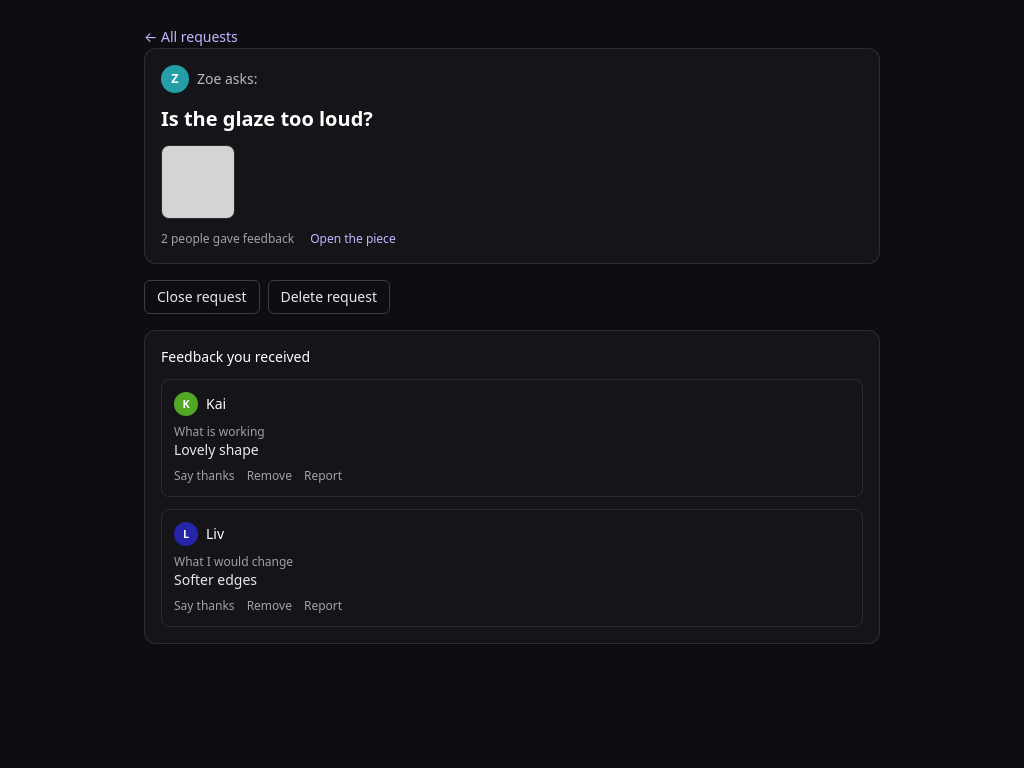
Scenario: CritiquePage: the maker › says thanks, takes a note away after asking, and reports one
Click the button with aria-label "Say thanks to Kai" at [204, 476], box [174, 468, 235, 484]
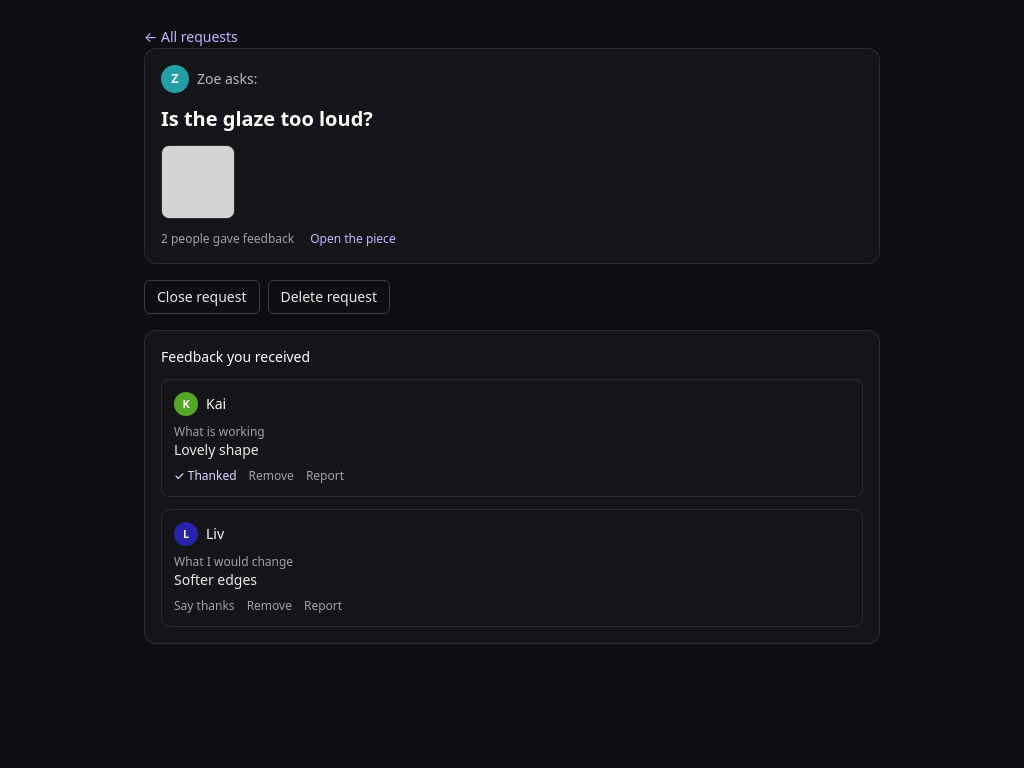
Result: the text "✓ Thanked" is shown at [174, 468, 236, 484]
Click the button with aria-label "Report this feedback from Liv" at [323, 606], box [304, 598, 342, 614]
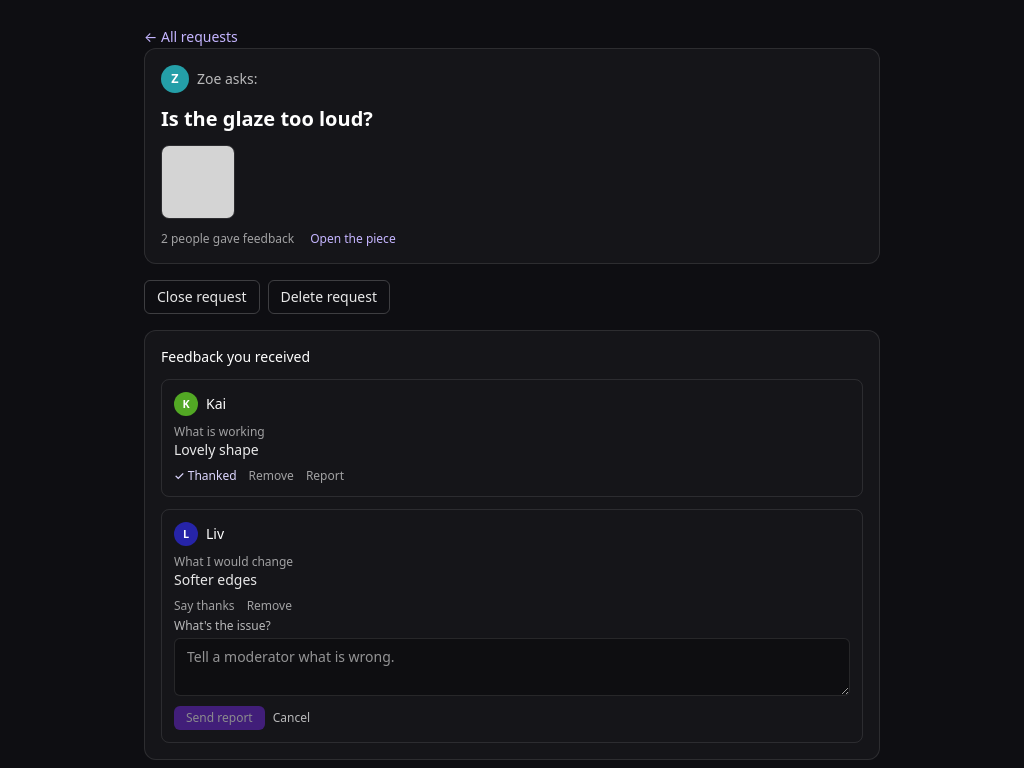
Type "Abusive" into the text box labelled "What's the issue?" at [512, 667], box [174, 638, 850, 696]
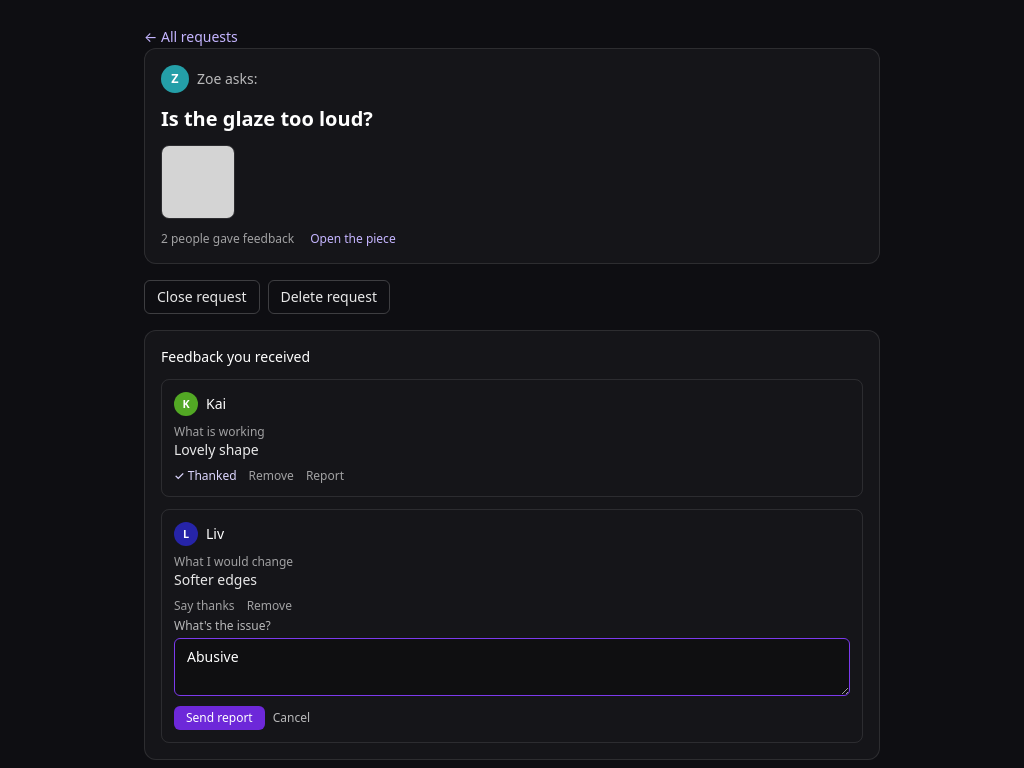
Click the button "Send report" at [219, 718], box [174, 706, 265, 730]
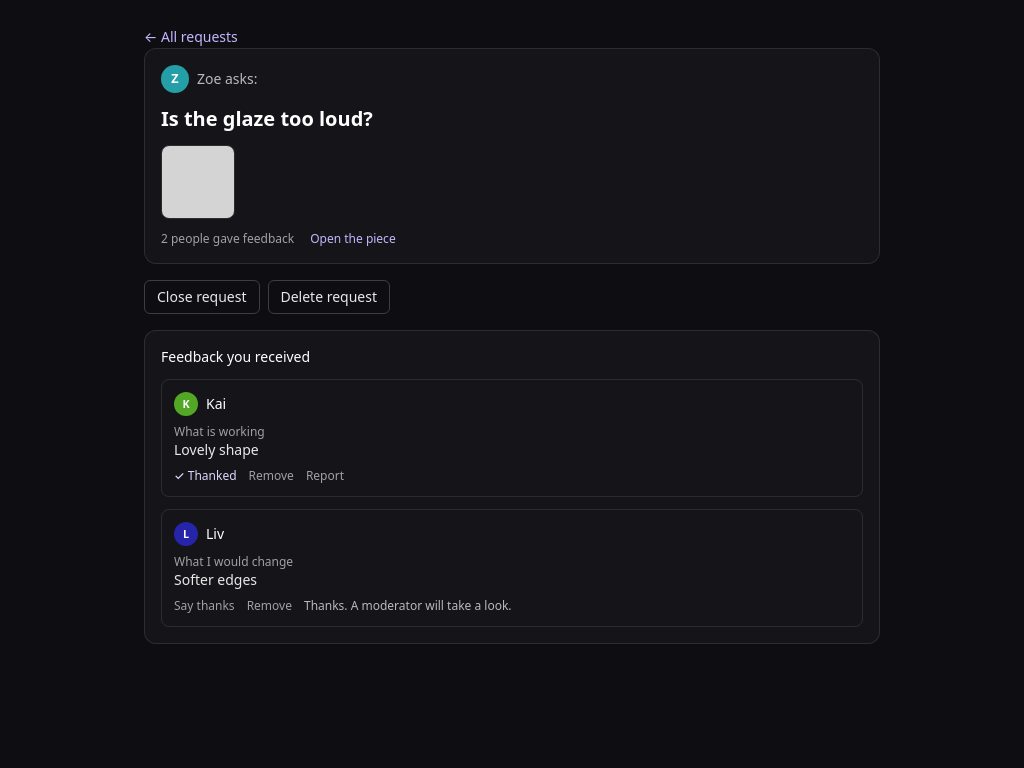
Click the button with aria-label "Remove feedback from Kai" at [271, 476], box [248, 468, 294, 484]
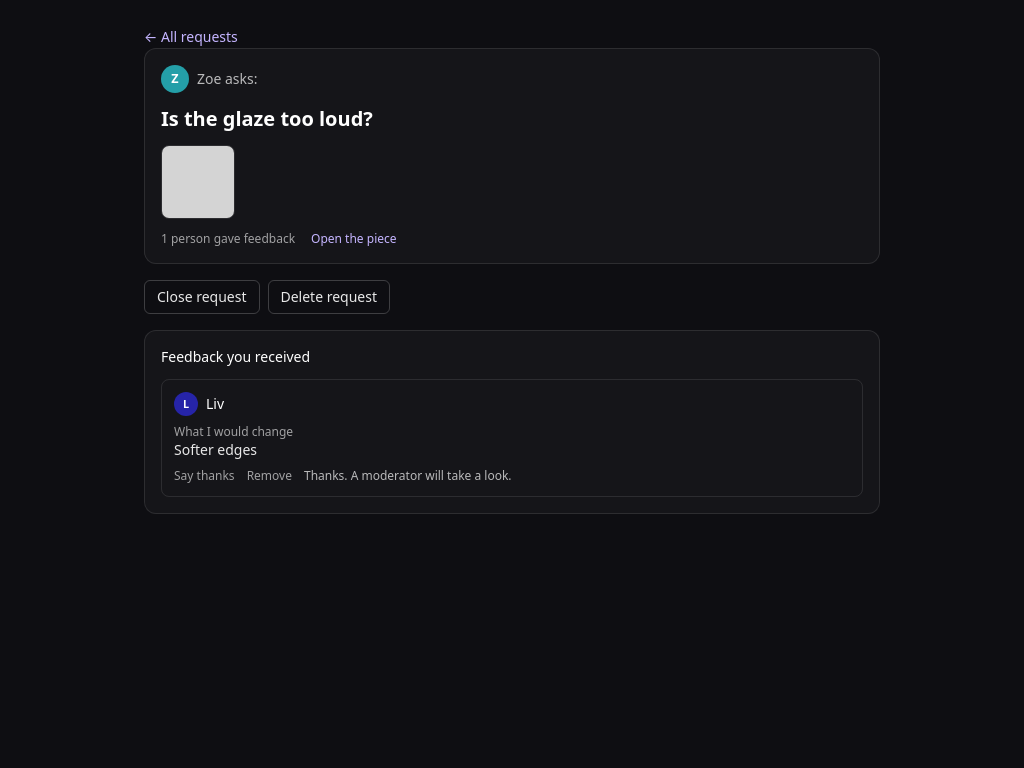
Result: the text "Lovely shape" is gone
